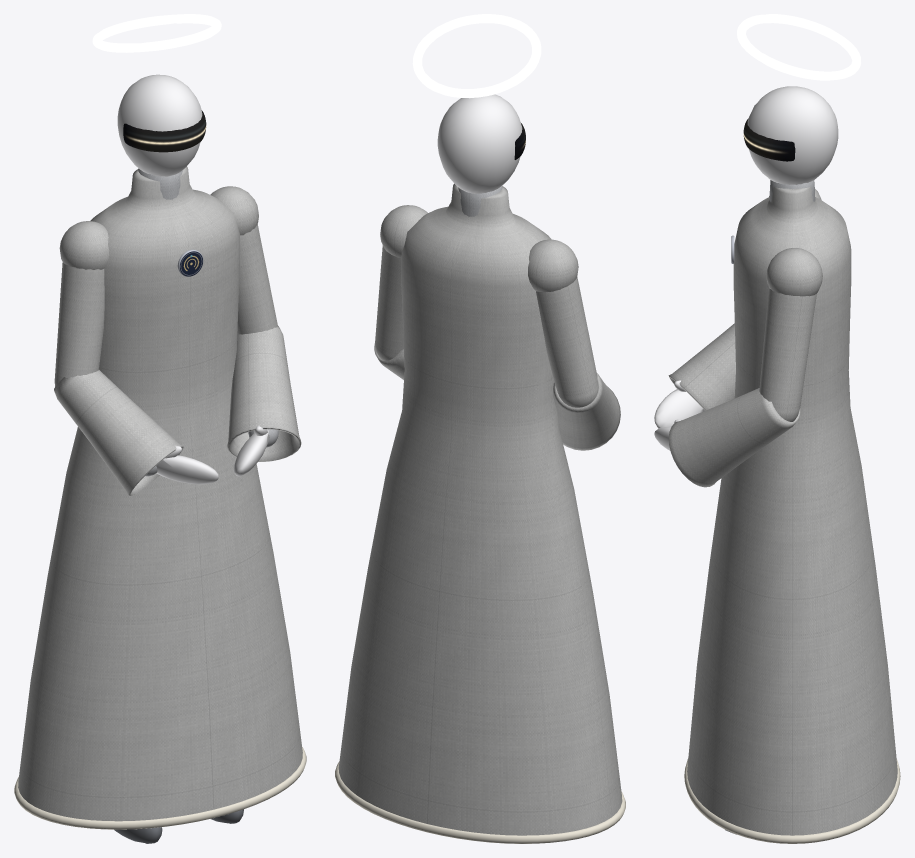
The model's file is omega.lod1.glb.
3 renders of one model, left to right at view 1: azimuth 30°, elevation 25°; view 2: azimuth 150°, elevation 25°; view 3: azimuth 270°, elevation 25°, orthographic.
Parts seen in each view (by area): view 1: Avatar · Omega, Avatar · Omega · Halo; view 2: Avatar · Omega, Avatar · Omega · Halo; view 3: Avatar · Omega, Avatar · Omega · Halo.
Boxes of the visible parts, x1=… form: Avatar · Omega: x1=14, y1=74, x2=306, y2=843; Avatar · Omega · Halo: x1=92, y1=14, x2=221, y2=52; Avatar · Omega: x1=335, y1=94, x2=625, y2=843; Avatar · Omega · Halo: x1=412, y1=14, x2=541, y2=98; Avatar · Omega: x1=654, y1=86, x2=900, y2=843; Avatar · Omega · Halo: x1=737, y1=14, x2=860, y2=80.
Size of the model in its own units: 0.8143 by 2.28 by 0.6488.
8 materials, 4 textured.
